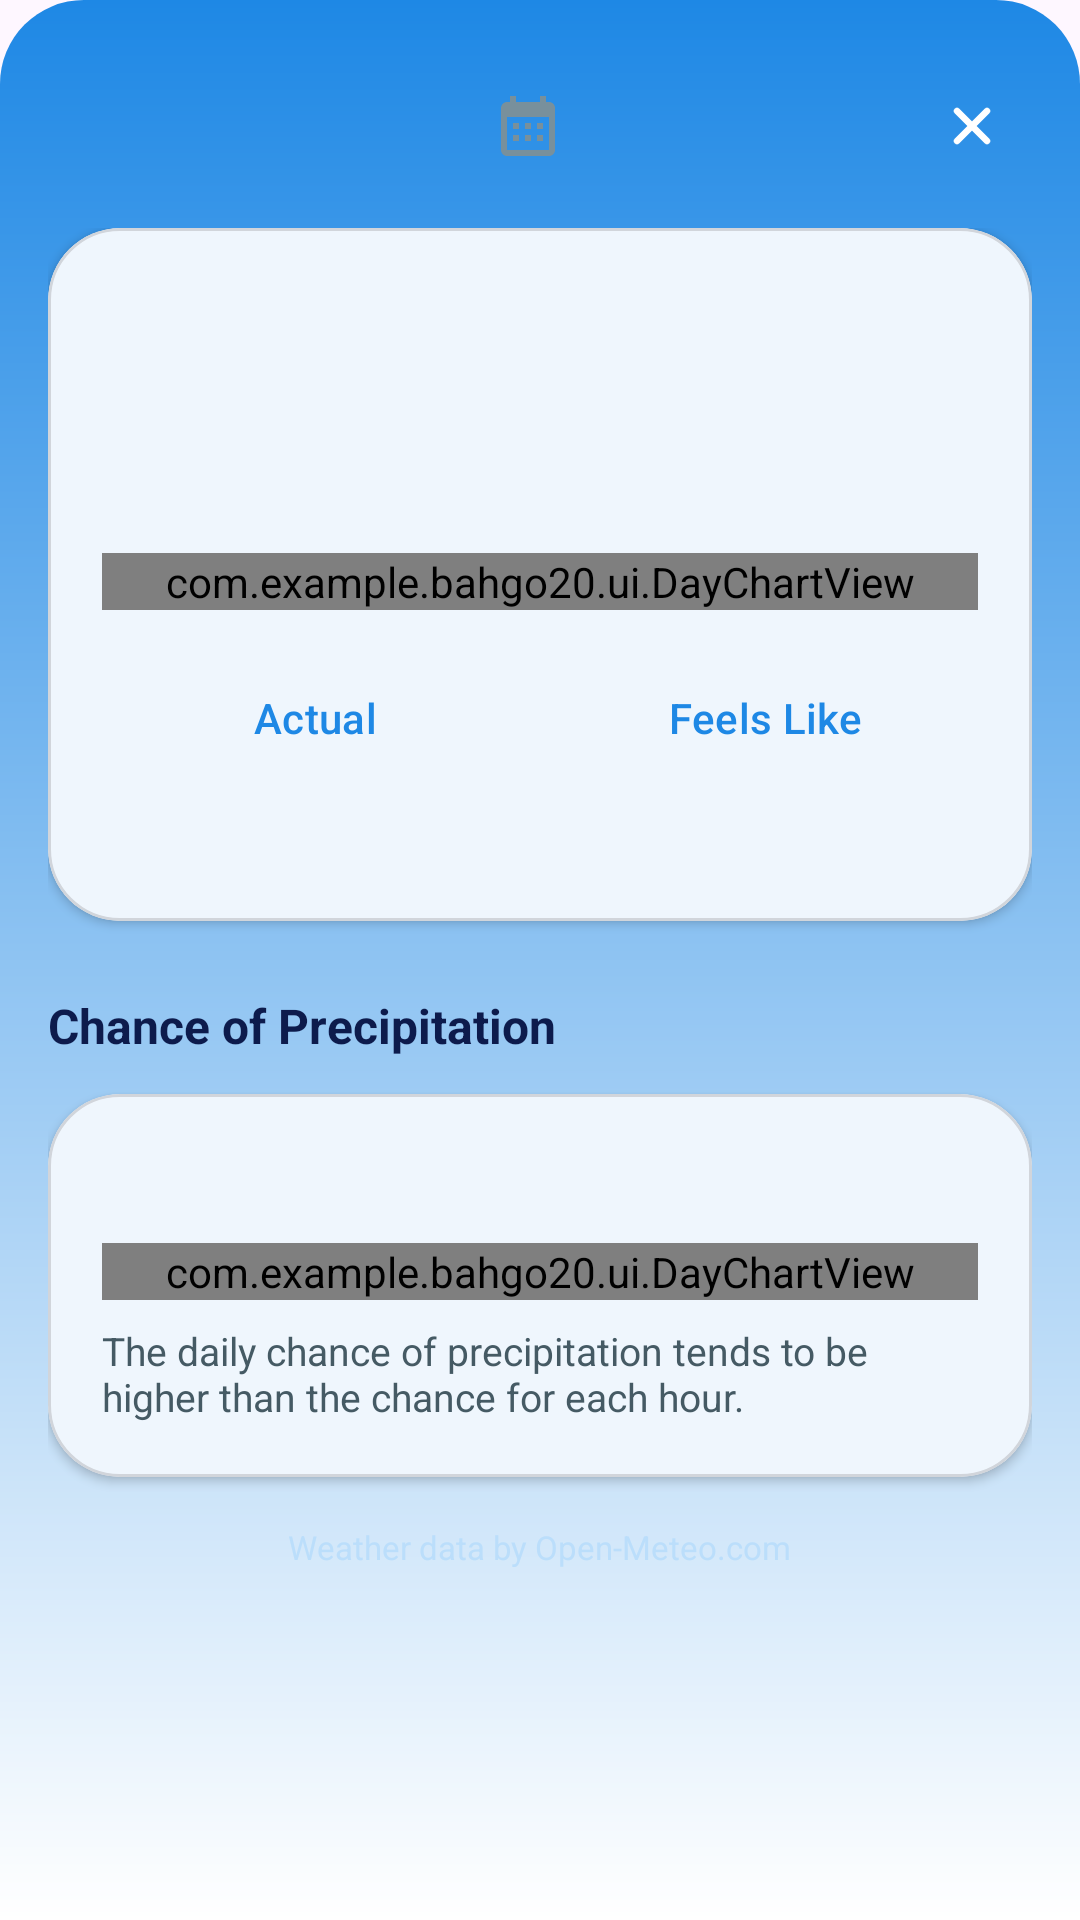

Icon bounding boxes for this 1080 × 1920 phone screenshot, format [x1,y1,x2,y2]:
calendar: [501,96,555,156]
Close: [953,107,991,145]
